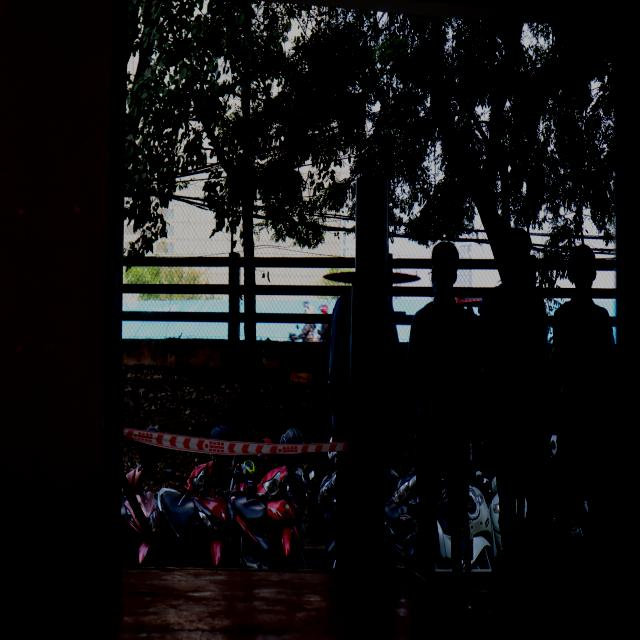pole: (326, 174, 418, 366)
